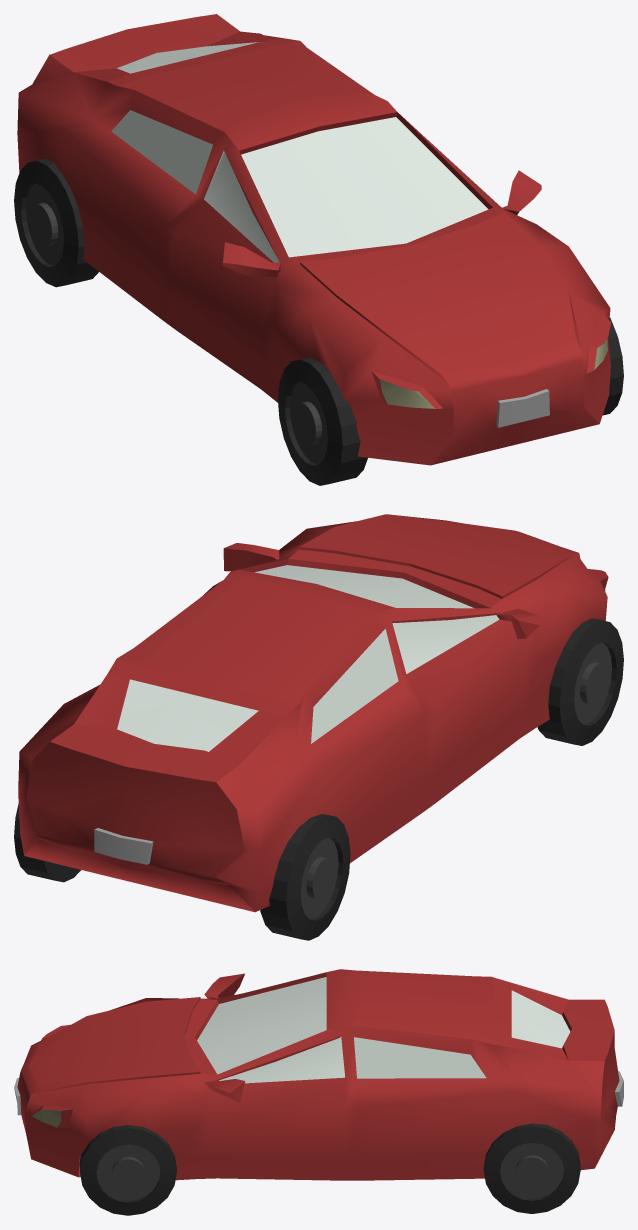
The model's file is RedCarWhitney.fbx.
3 renders of one model, top to bottom at view 1: azimuth 30°, elevation 25°; view 2: azimuth 150°, elevation 25°; view 3: azimuth 270°, elevation 25°, orthographic. The views are drawn at different scales.
Visible parts, largest first — view 1: pCube1, pCylinder2, pCylinder3, pCylinder1; view 2: pCube1, pCylinder3, pCylinder2, pCylinder4; view 3: pCube1, pCylinder1, pCylinder4.
Part boxes in pixels (x1=…): pCube1: x1=17, y1=14, x2=611, y2=465; pCylinder2: x1=278, y1=357, x2=367, y2=485; pCylinder3: x1=14, y1=158, x2=98, y2=287; pCylinder1: x1=602, y1=317, x2=623, y2=415; pCube1: x1=18, y1=514, x2=608, y2=912; pCylinder3: x1=260, y1=814, x2=350, y2=940; pCylinder2: x1=537, y1=618, x2=623, y2=745; pCylinder4: x1=14, y1=804, x2=80, y2=882; pCube1: x1=14, y1=969, x2=623, y2=1180; pCylinder1: x1=79, y1=1125, x2=176, y2=1215; pCylinder4: x1=483, y1=1123, x2=580, y2=1213.
Size of the model in its own units: 2.01 by 1.39 by 4.44.
